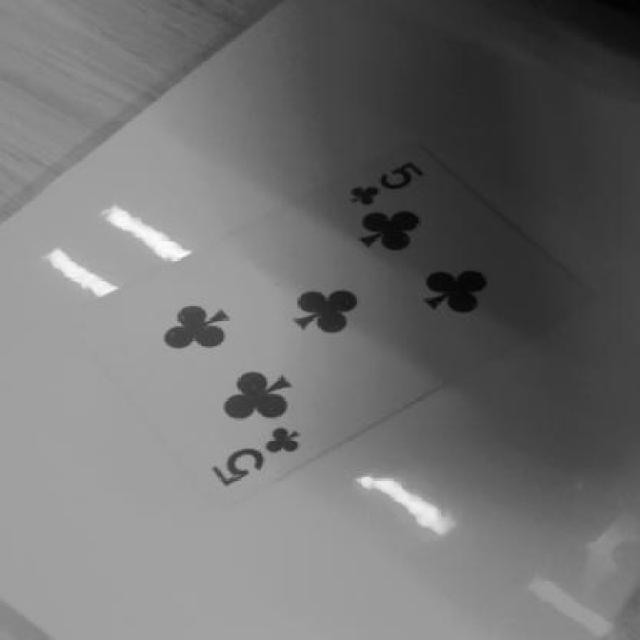5C: (198, 425, 318, 504), (338, 160, 444, 217)
